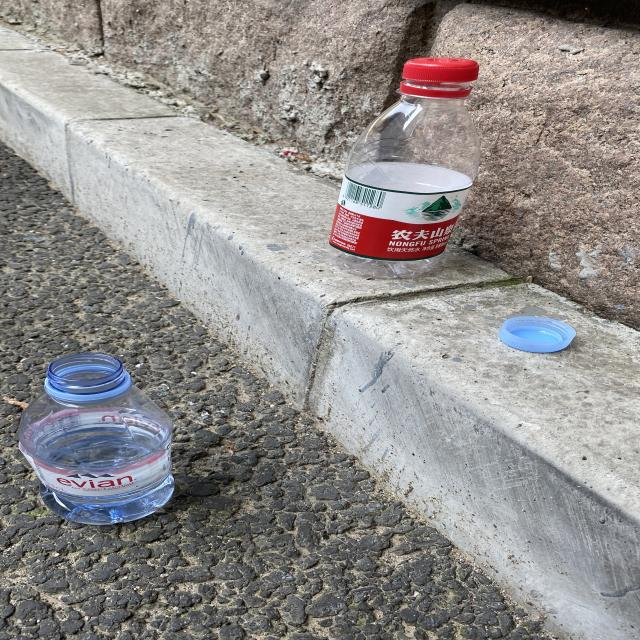Anorganik: (337, 47, 474, 286), (12, 357, 172, 523)
